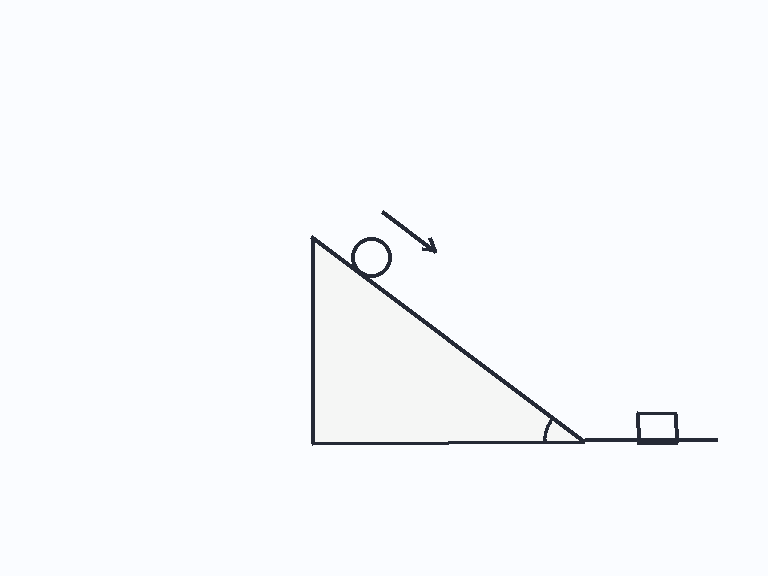ball: (349, 235, 393, 279)
block: (635, 411, 679, 444)
ramp: (310, 235, 586, 444)
